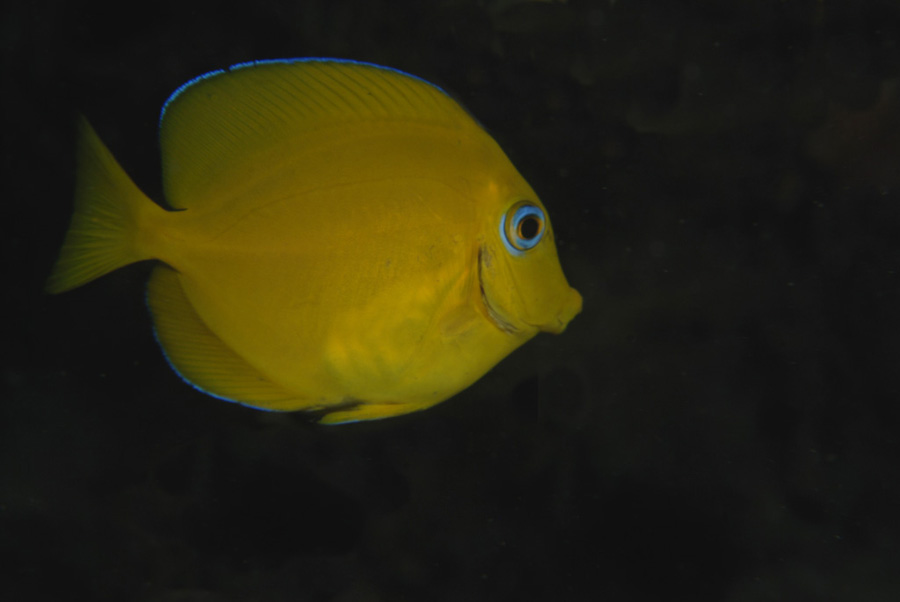Acanthurus_coeruleus: (34, 44, 588, 439)
